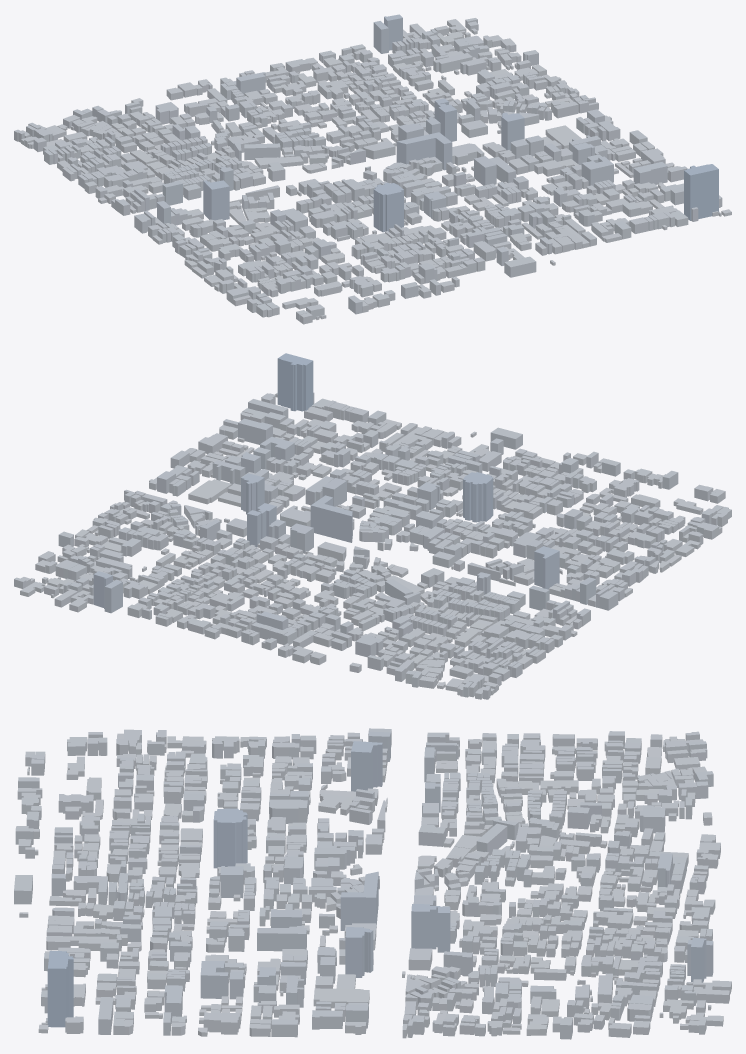
The picture shows the model from 3 angles, top to bottom: view 1: azimuth 30°, elevation 25°; view 2: azimuth 150°, elevation 25°; view 3: azimuth 270°, elevation 25°; orthographic projection. The views are drawn at different scales.
Size of the model in its own units: 513 by 46.9 by 521.
